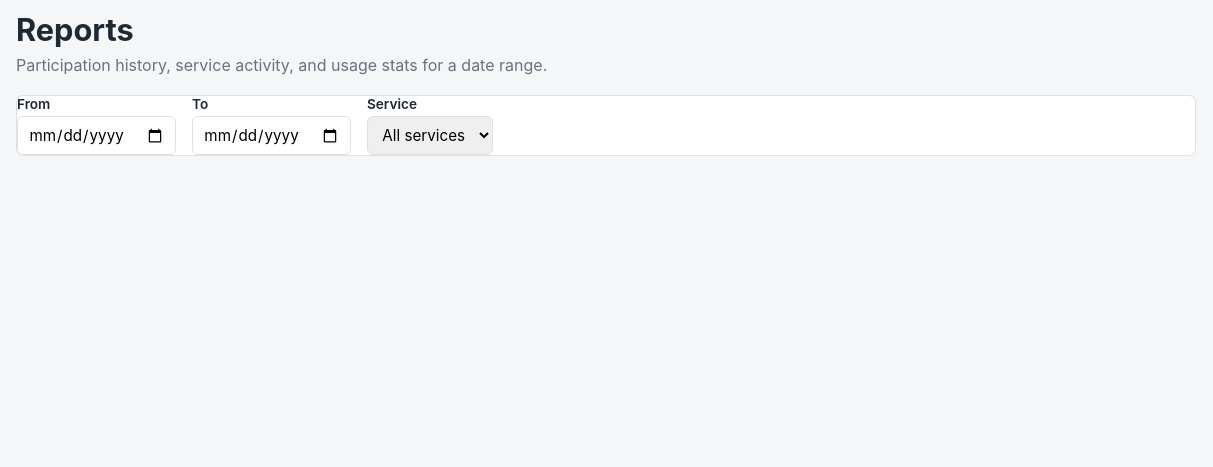
admin reports › sends local calendar dates as inclusive ISO day boundaries
Type "2026-08-14" into the date field labelled "From". click: (96, 136)
box: [17,116,176,155]
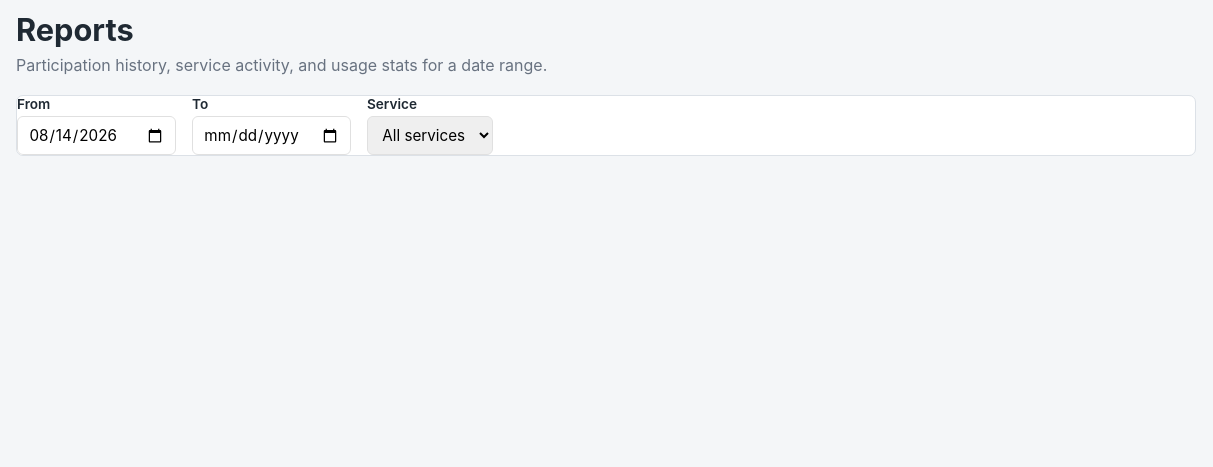
Type "2026-08-14" into the date field labelled "To". click: (272, 136)
box: [192,116,351,155]
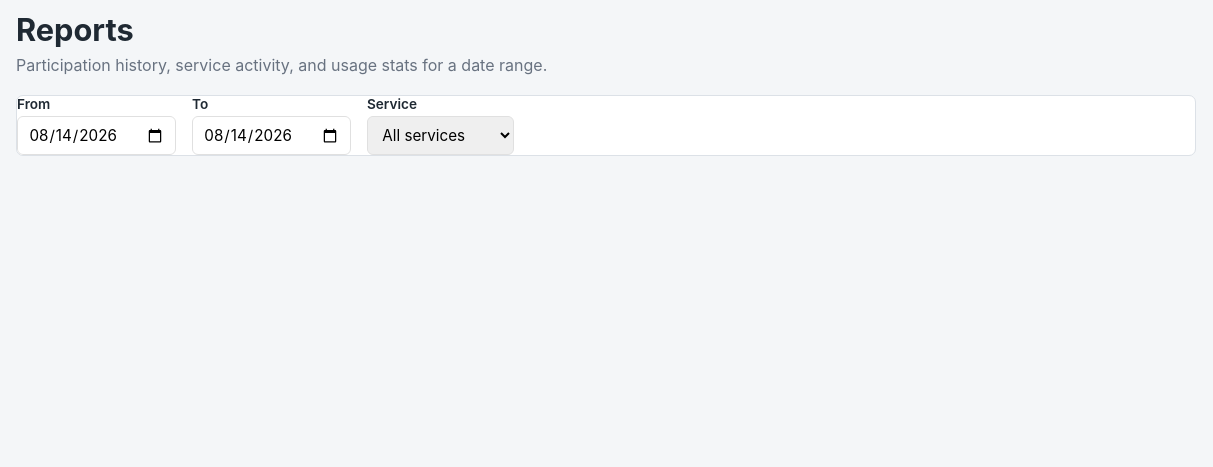
Click the button "Generate report". click: (609, 136)
box: [530,116,687,155]
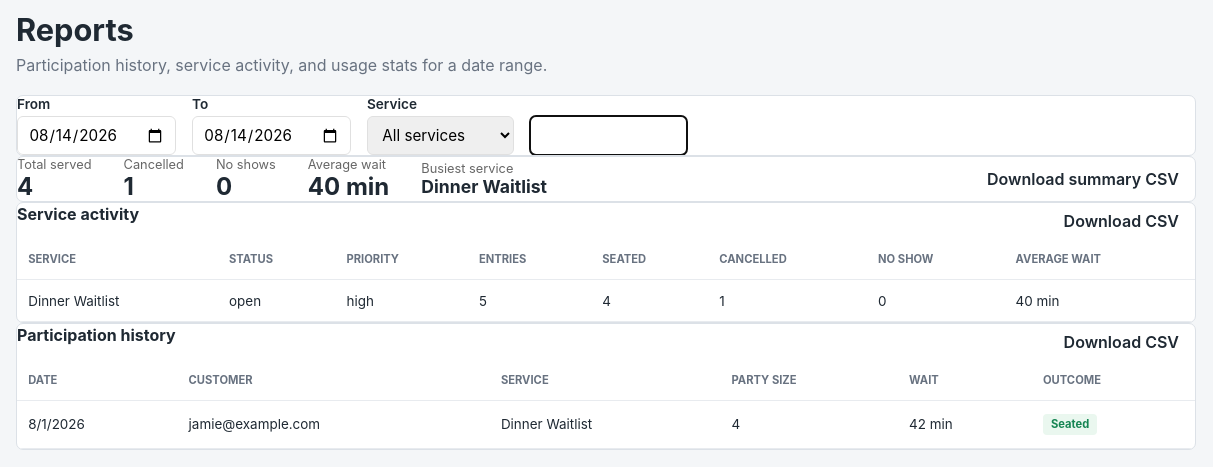
Result: the text "Total served" is shown at [17,157,92,172]
